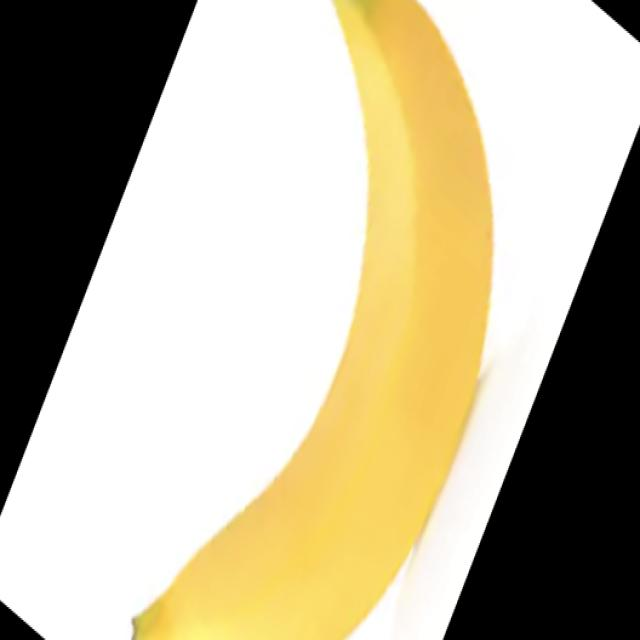god quality banana: (135, 2, 493, 640)
